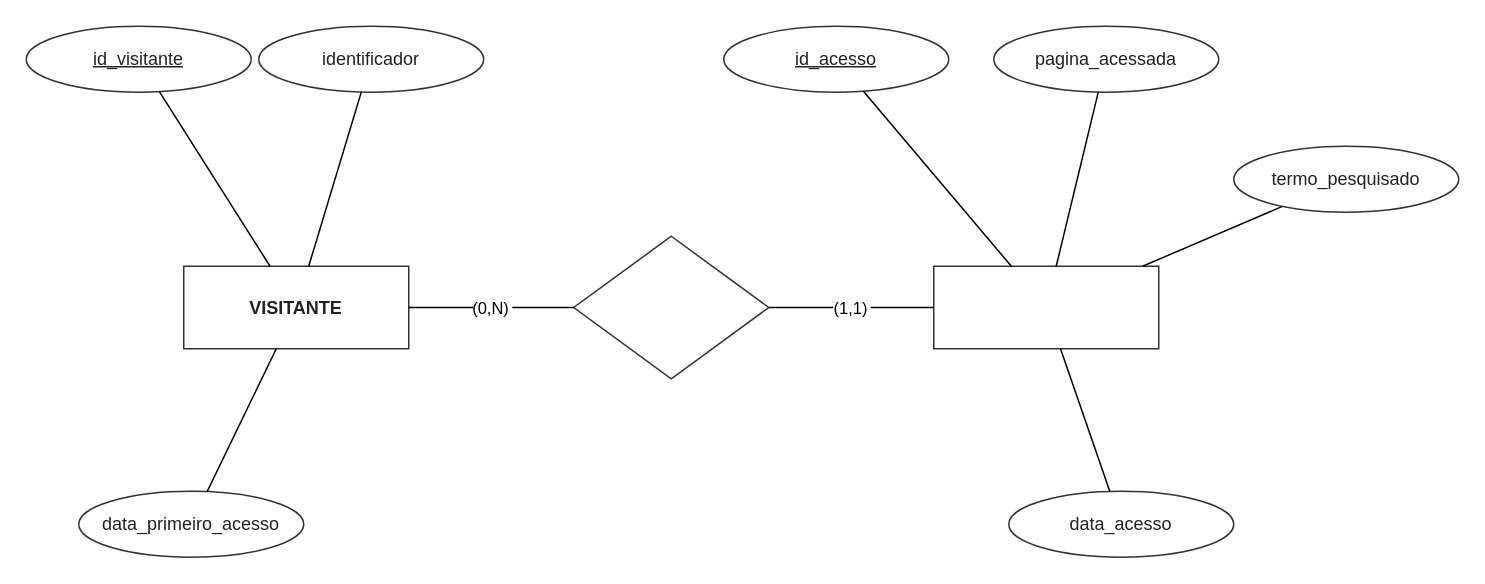
This 1485x584 diagram has some shape labels left out. The shapes that lost their labels are listed below. From the top down, each one's centre as x and y in pixels, then its label:
At point (670, 307): "Realiza".
At point (1045, 307): "ACESSO".
